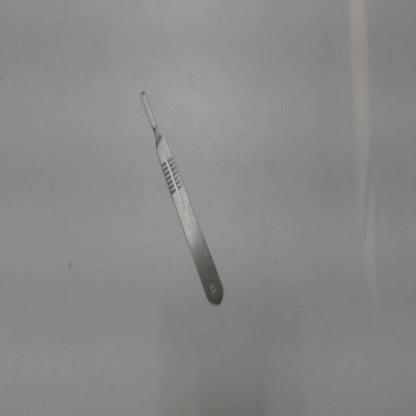No.4 BP Handle: (129, 76, 238, 321)
